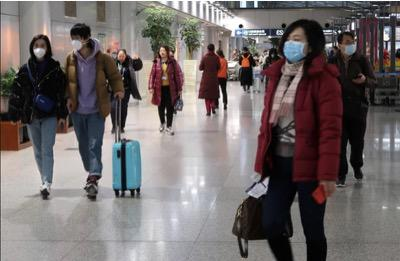with_mask: (282, 32, 307, 63), (341, 38, 357, 55), (32, 40, 47, 58), (70, 35, 82, 51)
without_mask: (117, 51, 127, 61), (158, 48, 167, 56)
